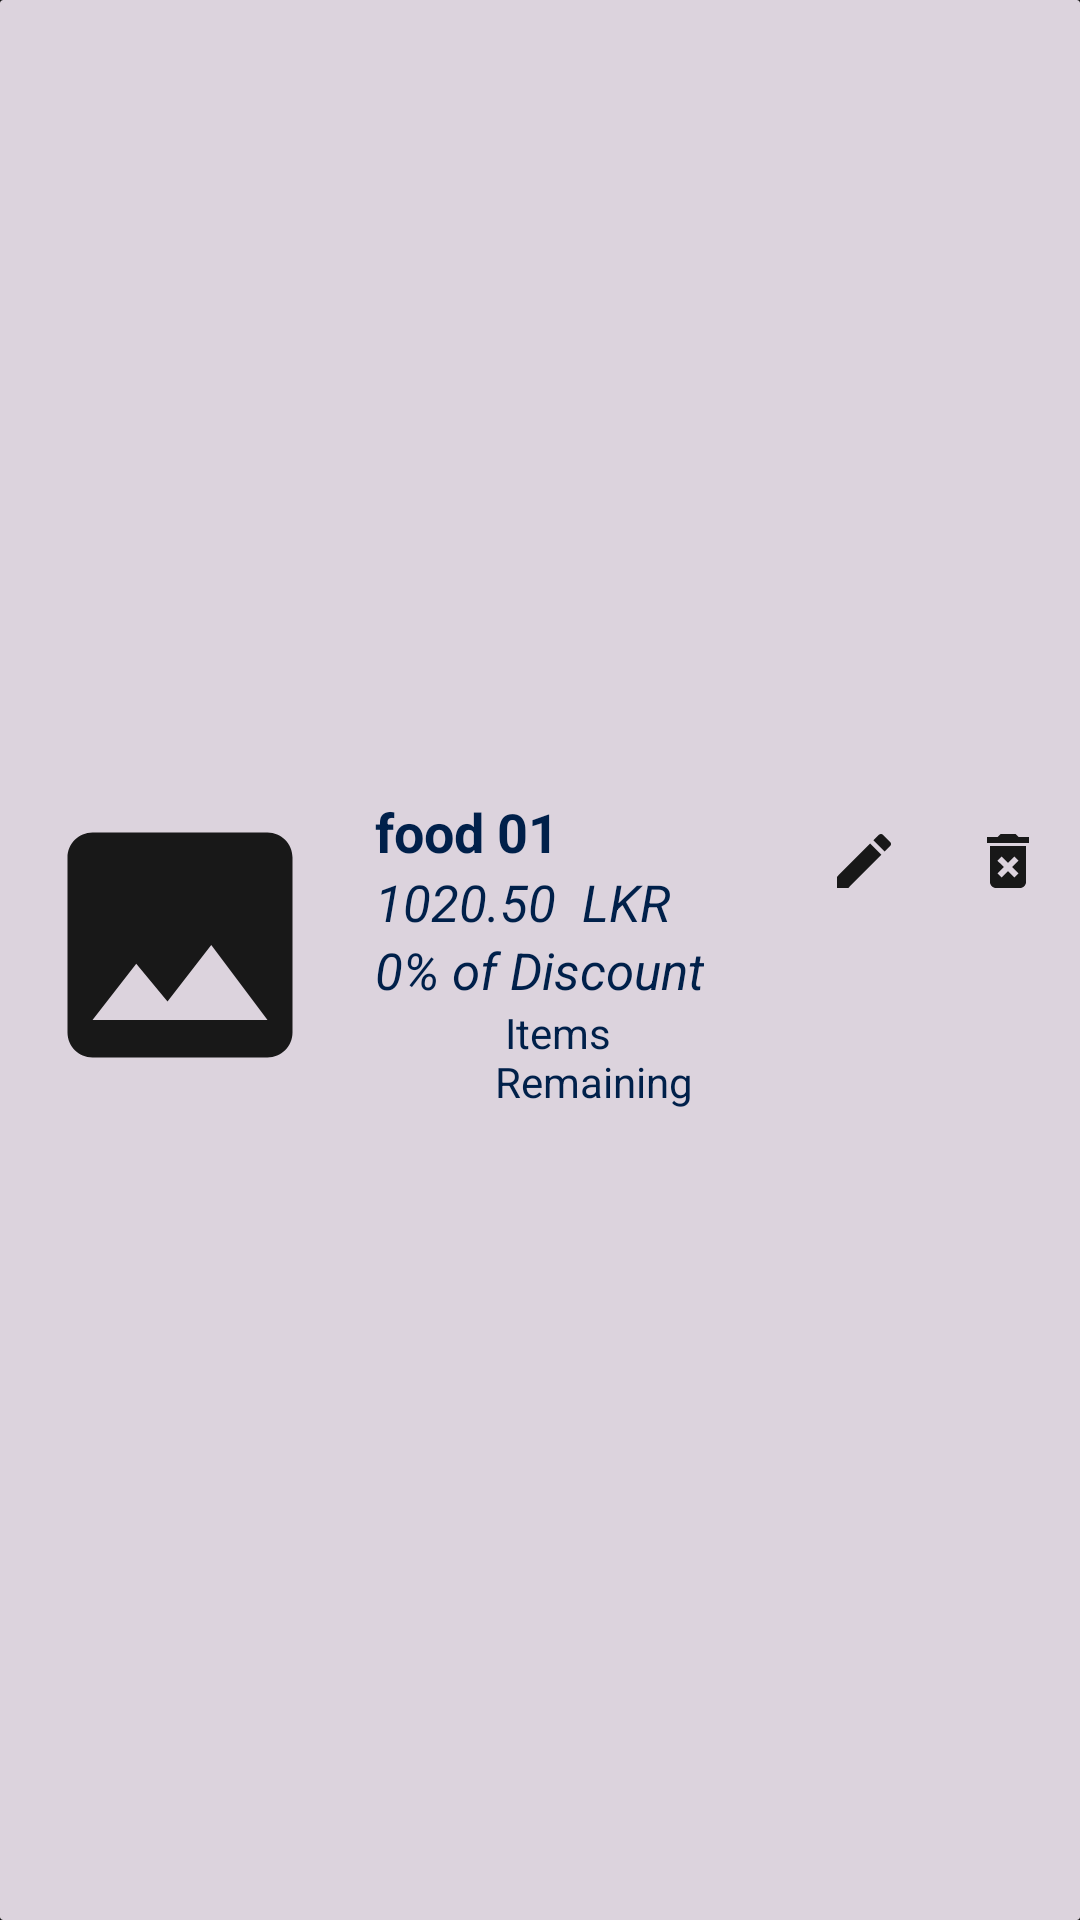

Named icons in this screenshot (1080w x 1920h) and their bounding boxes, (x1,y1,x2,y2):
delete forever: (987,834,1029,888)
mode edit: (837,834,891,888)
